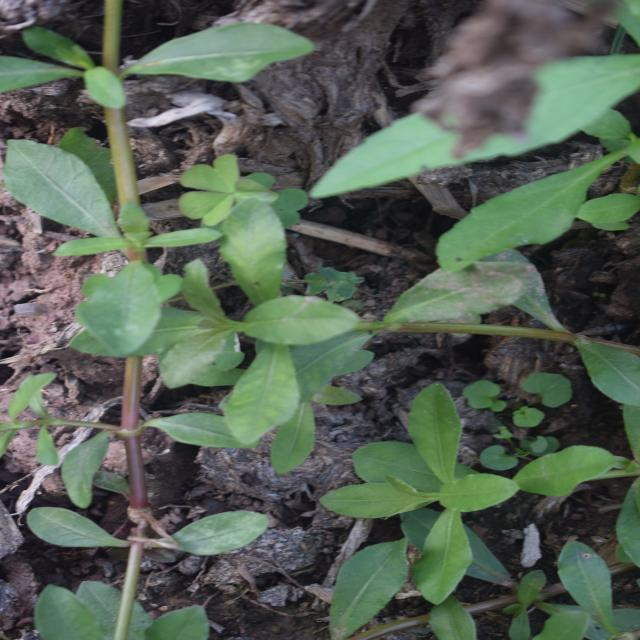Alligatorweed: (211, 161, 453, 507), (395, 52, 610, 315)
